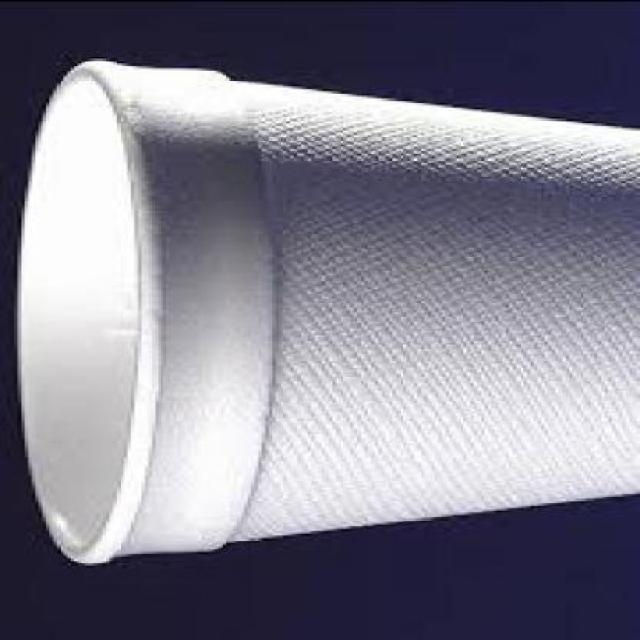PAPER: (15, 61, 636, 568)
